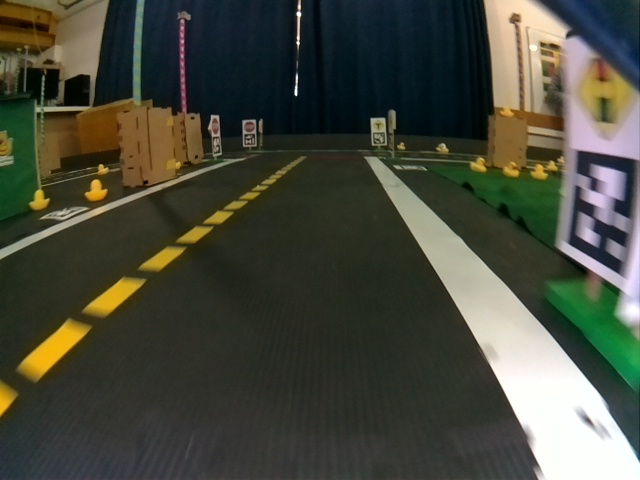Duckie: (85, 179, 107, 201), (29, 190, 49, 207), (503, 162, 519, 176), (470, 158, 486, 172), (532, 165, 547, 179), (97, 164, 108, 175), (500, 107, 512, 116), (437, 143, 448, 152), (399, 142, 406, 149)
Intersection sign: (372, 120, 385, 131)
QR code: (563, 153, 639, 280), (40, 207, 88, 217), (373, 132, 386, 145), (212, 138, 222, 154), (244, 134, 256, 146)
Stop sign: (210, 117, 220, 134), (244, 122, 254, 132)
